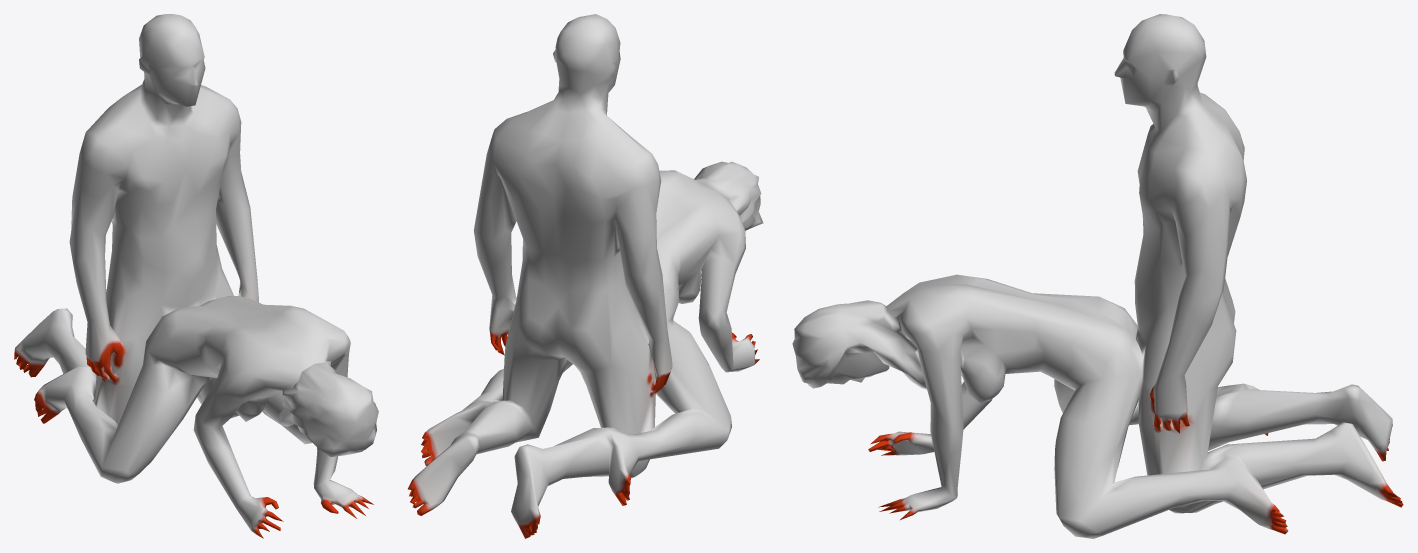
Rendered from position2_low.fbx.
The picture shows the model from 3 angles, left to right: view 1: azimuth 30°, elevation 25°; view 2: azimuth 150°, elevation 25°; view 3: azimuth 270°, elevation 25°; orthographic projection. The views are drawn at different scales.
Parts seen in each view (by area): view 1: doggy_male; view 2: doggy_male; view 3: doggy_male.
Part boxes in pixels (x1,y1,x2,y2): doggy_male: [14, 14, 378, 538]; doggy_male: [408, 14, 763, 538]; doggy_male: [792, 14, 1403, 538].
Size of the model in its own units: 0.2913 by 0.5334 by 0.6339.
